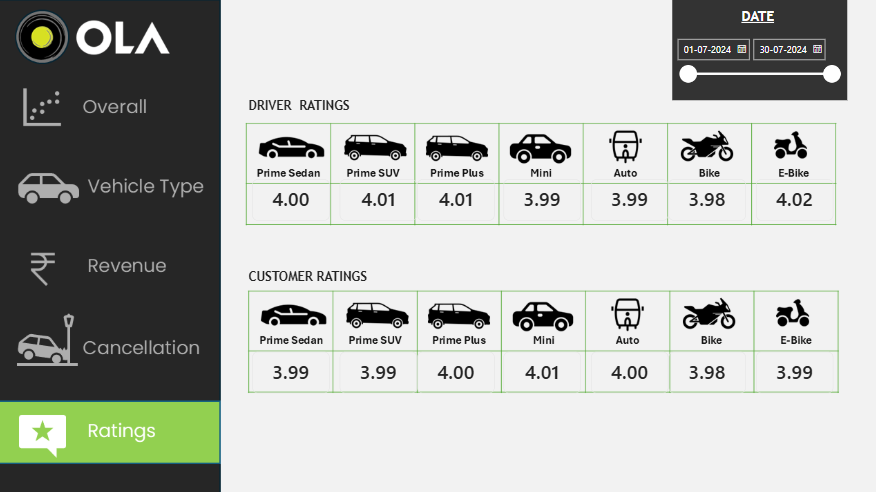

This screenshot's page, from the dashboard's own definition file:
{"tool":"powerbi","page":{"name":"Ratings","canvas":[1920,1080],"ordinal":4},"visuals":[{"type":"actionButton","box":[318.3,406.7,325,90],"z":0},{"type":"actionButton","box":[318.3,516.7,325,90],"z":1000},{"type":"actionButton","box":[318.3,626.7,325,90],"z":2000},{"type":"actionButton","box":[318.3,290,325,90],"z":3000},{"type":"card","fields":{"Values":["Avg(July.Driver_Ratings)"]},"box":[690,436,112,60],"z":3001},{"type":"card","fields":{"Values":["Avg(July.Driver_Ratings)"]},"box":[816,436,112,60],"z":3002},{"type":"card","fields":{"Values":["Avg(July.Driver_Ratings)"]},"box":[928,436,112,60],"z":3003},{"type":"card","fields":{"Values":["Avg(July.Driver_Ratings)"]},"box":[1054,436,112,60],"z":3004},{"type":"card","fields":{"Values":["Avg(July.Driver_Ratings)"]},"box":[1180,436,112,60],"z":3005},{"type":"card","fields":{"Values":["Avg(July.Driver_Ratings)"]},"box":[1292,436,112,60],"z":3006},{"type":"card","fields":{"Values":["Avg(July.Driver_Ratings)"]},"box":[1418,436,112,60],"z":3007},{"type":"card","fields":{"Values":["Avg(July.Customer_Rating)"]},"box":[690,686,112,60],"z":3008},{"type":"card","fields":{"Values":["Avg(July.Customer_Rating)"]},"box":[816,686,112,60],"z":3009},{"type":"card","fields":{"Values":["Avg(July.Customer_Rating)"]},"box":[928,686,112,60],"z":3010},{"type":"card","fields":{"Values":["Avg(July.Customer_Rating)"]},"box":[1054,686,112,60],"z":3011},{"type":"card","fields":{"Values":["Avg(July.Customer_Rating)"]},"box":[1180,686,112,60],"z":3012},{"type":"card","fields":{"Values":["Avg(July.Customer_Rating)"]},"box":[1292,686,112,60],"z":3013},{"type":"card","fields":{"Values":["Avg(July.Customer_Rating)"]},"box":[1418,686,112,60],"z":3014},{"type":"textbox","box":[150,318.5,300,150],"z":3015},{"type":"textbox","box":[684,318,300,150],"z":3016},{"type":"textbox","box":[684,566,300,150],"z":3017},{"type":"slicer","title":"DATE","fields":{"Values":["July.Date"]},"box":[1297.5,175,252.5,145],"z":3018}]}

Visuals, with their boxes on the page's 1920x1080 design canvas (x1, y1, x2, y2). These are canvas units, not pixel positions in the 876x492 screenshot, which may show the page scaled, cropped or inside an application window:
actionButton: 318:407:643:497
actionButton: 318:517:643:607
actionButton: 318:627:643:717
actionButton: 318:290:643:380
card - Avg(July.Driver_Ratings): 690:436:802:496
card - Avg(July.Driver_Ratings): 816:436:928:496
card - Avg(July.Driver_Ratings): 928:436:1040:496
card - Avg(July.Driver_Ratings): 1054:436:1166:496
card - Avg(July.Driver_Ratings): 1180:436:1292:496
card - Avg(July.Driver_Ratings): 1292:436:1404:496
card - Avg(July.Driver_Ratings): 1418:436:1530:496
card - Avg(July.Customer_Rating): 690:686:802:746
card - Avg(July.Customer_Rating): 816:686:928:746
card - Avg(July.Customer_Rating): 928:686:1040:746
card - Avg(July.Customer_Rating): 1054:686:1166:746
card - Avg(July.Customer_Rating): 1180:686:1292:746
card - Avg(July.Customer_Rating): 1292:686:1404:746
card - Avg(July.Customer_Rating): 1418:686:1530:746
textbox: 150:318:450:468
textbox: 684:318:984:468
textbox: 684:566:984:716
"DATE" slicer: 1298:175:1550:320
